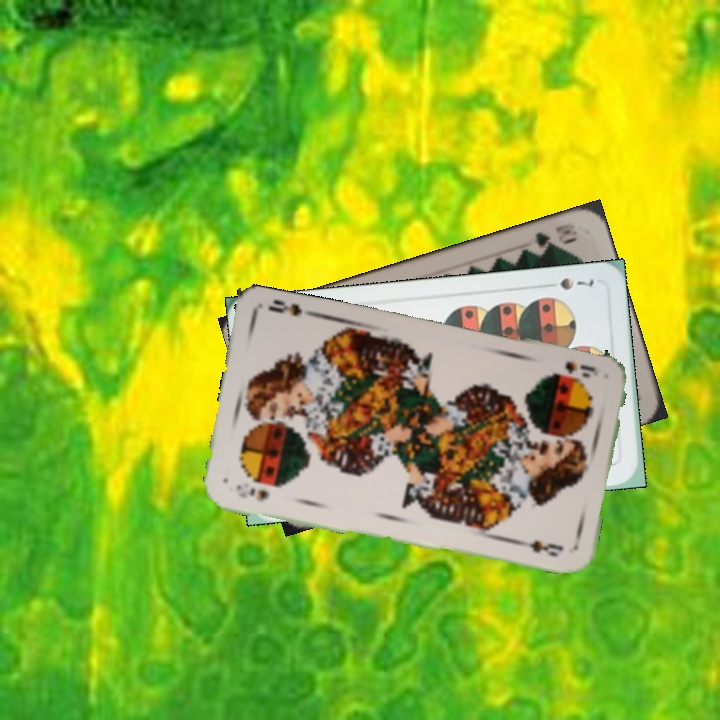G10: (531, 219, 580, 253)
S7: (540, 273, 598, 293)
SO: (548, 358, 600, 380), (232, 480, 272, 503)
